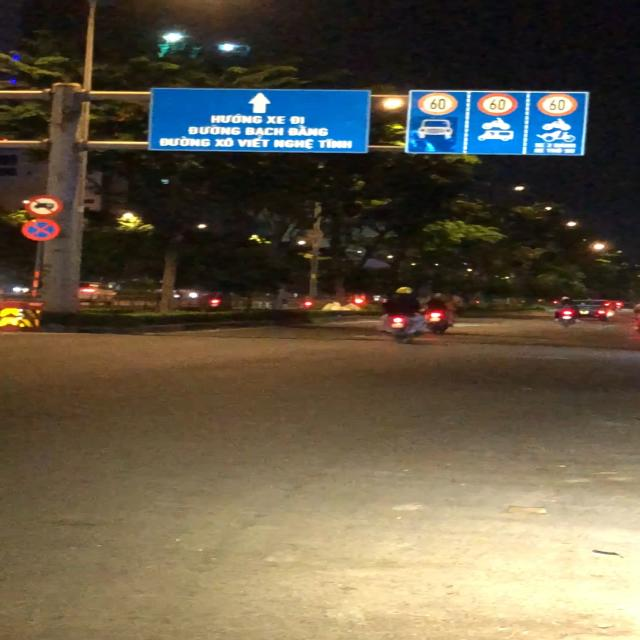Bien bao cam dung xe va do xe: (18, 218, 66, 244)
Bien bao cam xe oto tai: (23, 194, 63, 219)
Bien bao toc do toi da cho phep: (473, 92, 520, 118), (414, 91, 461, 117), (534, 93, 580, 117)
